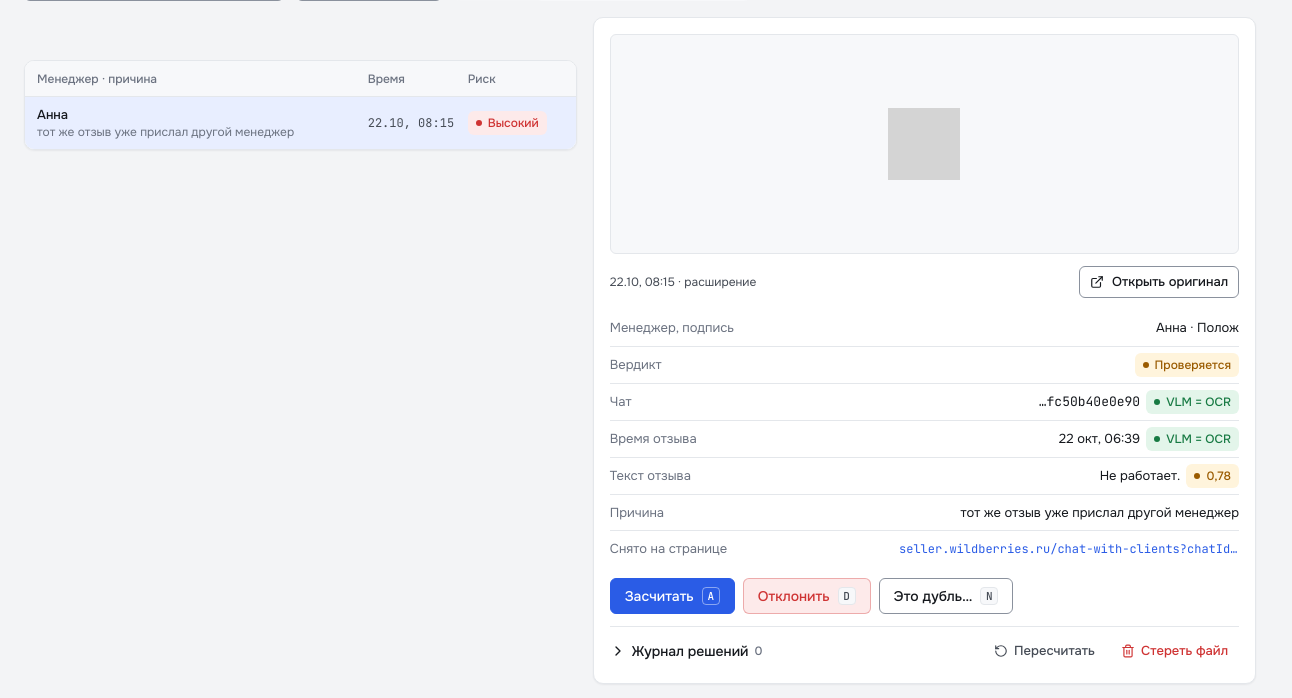
Test: ScreenshotsPage › explains transition_not_allowed in plain words
(page scrolled)
Expected: the element named "Скриншот Анна" is shown, [593, 17, 1256, 684]
Click the button "Засчитать A".
click(672, 596)  # box [610, 578, 735, 614]
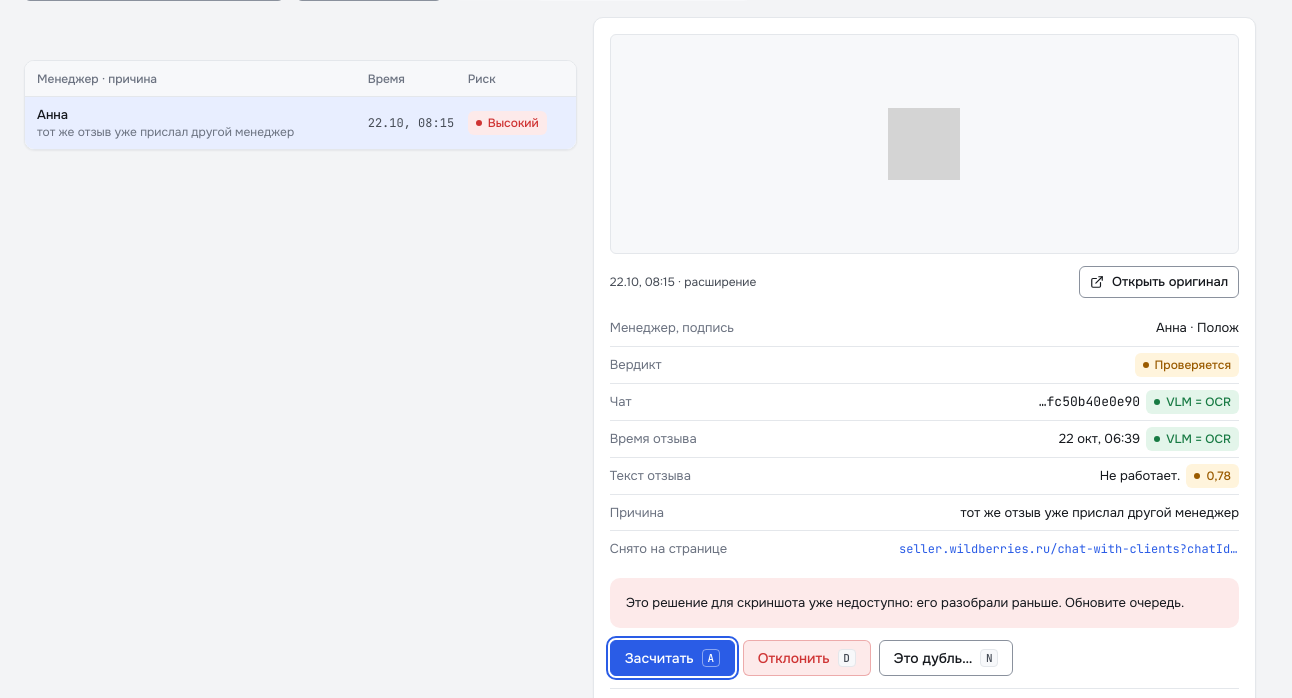
Expected: the message shows "Это решение для скриншота уже недоступно", [626, 594, 1184, 611]
